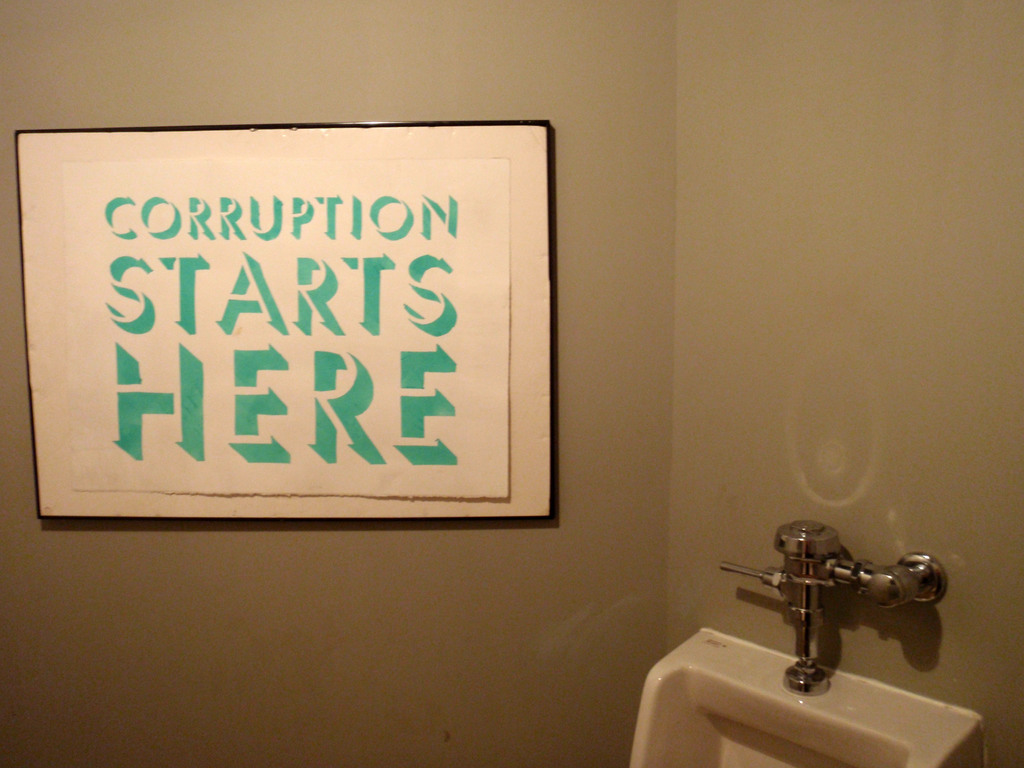tap: (732, 547, 933, 715)
